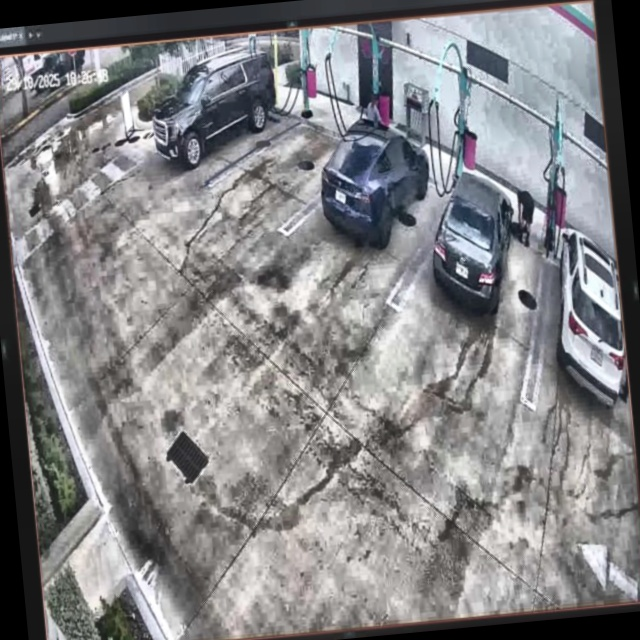Car: (314, 116, 437, 251), (147, 52, 281, 164), (426, 172, 521, 316)
